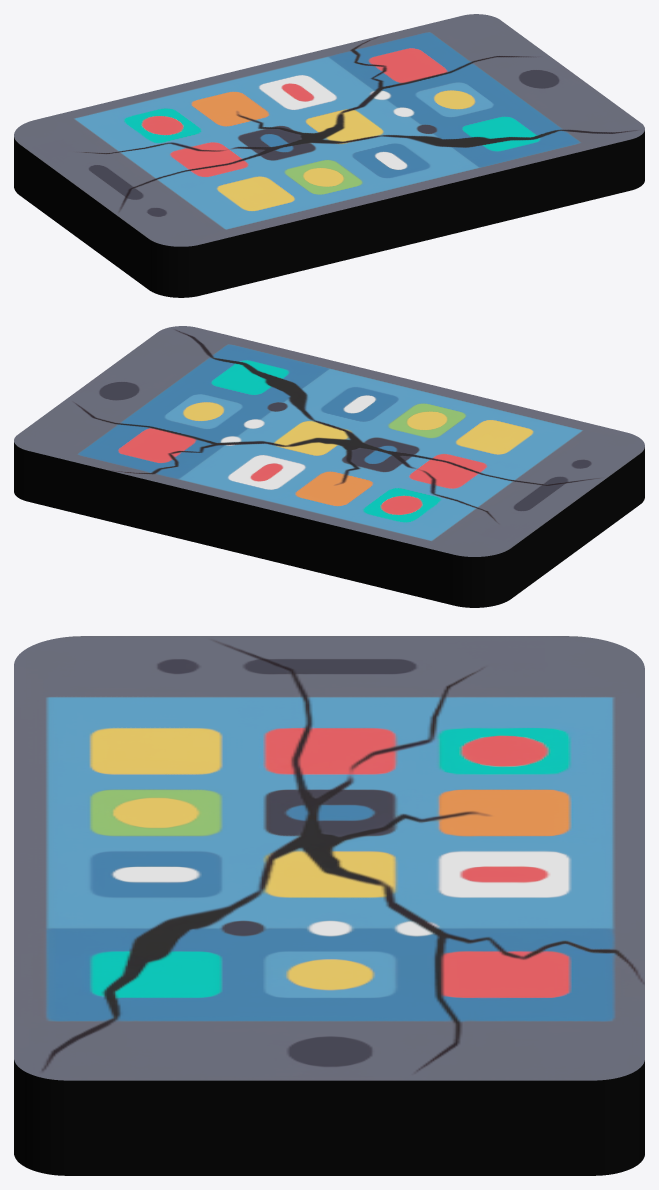
The model's file is CrashedSmartphone01.fbx.
3 renders of one model, top to bottom at view 1: azimuth 30°, elevation 25°; view 2: azimuth 150°, elevation 25°; view 3: azimuth 270°, elevation 25°, orthographic. The views are drawn at different scales.
Visible parts, largest first — view 1: Smartphone; view 2: Smartphone; view 3: Smartphone.
Boxes of the visible parts, bbox=[...] form: Smartphone: bbox=[14, 14, 644, 297]; Smartphone: bbox=[14, 326, 644, 607]; Smartphone: bbox=[14, 636, 644, 1175].
Size of the model in its own units: 2000 by 200 by 1200.
2 materials, 1 textured.
